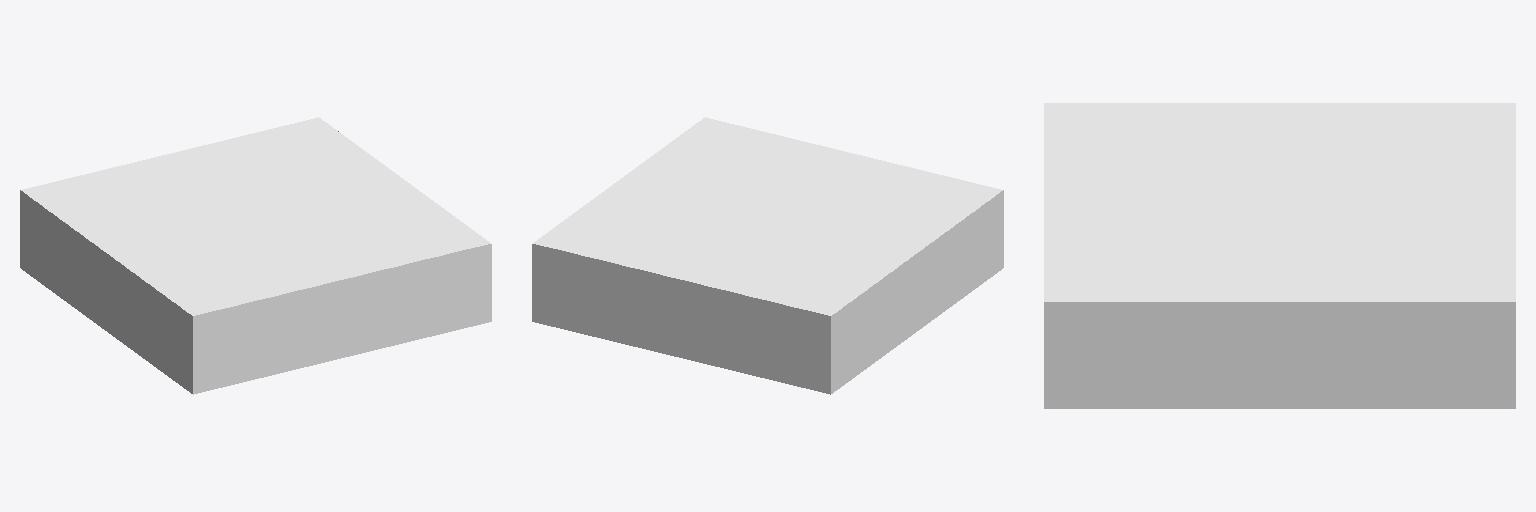
URDF robot description (room12x12e):
<?xml version="1.0"?>
<robot name="room12x12e">
  <link name="floor_link">
    <visual>
      <geometry>
        <box size="12 12 0.01"/>
      </geometry>
      <origin xyz="0 0 -0.005" rpy="0 0 0"/>
      <material name="white"/>
    </visual>
    <collision>
      <geometry>
        <box size="12 12 0.01"/>
      </geometry>
      <origin xyz="0 0 -0.005" rpy="0 0 0"/>
    </collision>
    <inertial>
      <mass value="3888"/>
      <inertia ixx="46656.0324" ixy="0" ixz="0" iyy="46656.0324" iyz="0" izz="93312"/>
      <origin xyz="0 0 -0.005" rpy="0 0 0"/>
    </inertial>
    <contact>
      <lateral_friction value="1"/>
    </contact>
  </link>
  <material name="blue">
    <color rgba="0 0 0.8 1"/>
  </material>
  <material name="black">
    <color rgba="0 0 0 1"/>
  </material>
  <material name="white">
    <color rgba="1 1 1 1"/>
  </material>
  <link name="north_link">
    <visual>
      <geometry>
        <box size="12 0.01 3"/>
      </geometry>
      <origin xyz="0 0 1.5" rpy="0 0 0"/>
      <material name="white"/>
    </visual>
    <collision>
      <geometry>
        <box size="12 0.01 3"/>
      </geometry>
      <origin xyz="0 0 1.5" rpy="0 0 0"/>
    </collision>
    <inertial>
      <mass value="972"/>
      <inertia ixx="729.0081" ixy="0" ixz="0" iyy="12393" iyz="0" izz="11664.0081"/>
      <origin xyz="0 0 1.5" rpy="0 0 0"/>
    </inertial>
  </link>
  <joint name="north_joint" type="fixed">
    <parent link="floor_link"/>
    <child link="north_link"/>
    <origin xyz="0 6 0" rpy="0 0 0"/>
  </joint>
  <link name="east_link">
    <visual>
      <geometry>
        <box size="12 0.01 3"/>
      </geometry>
      <origin xyz="0 0 1.5" rpy="0 0 1.570796327"/>
      <material name="white"/>
    </visual>
    <collision>
      <geometry>
        <box size="12 0.01 3"/>
      </geometry>
      <origin xyz="0 0 1.5" rpy="0 0 1.570796327"/>
    </collision>
    <inertial>
      <mass value="972"/>
      <inertia ixx="729.0081" ixy="0" ixz="0" iyy="12393" iyz="0" izz="11664.0081"/>
      <origin xyz="0 0 1.5" rpy="0 0 1.570796327"/>
    </inertial>
  </link>
  <joint name="east_joint" type="fixed">
    <parent link="floor_link"/>
    <child link="east_link"/>
    <origin xyz="6 0 0" rpy="0 0 0"/>
  </joint>
  <link name="south_link">
    <visual>
      <geometry>
        <box size="12 0.01 3"/>
      </geometry>
      <origin xyz="0 0 1.5" rpy="0 0 0"/>
      <material name="white"/>
    </visual>
    <collision>
      <geometry>
        <box size="12 0.01 3"/>
      </geometry>
      <origin xyz="0 0 1.5" rpy="0 0 0"/>
    </collision>
    <inertial>
      <mass value="972"/>
      <inertia ixx="729.0081" ixy="0" ixz="0" iyy="12393" iyz="0" izz="11664.0081"/>
      <origin xyz="0 0 1.5" rpy="0 0 0"/>
    </inertial>
  </link>
  <joint name="south_joint" type="fixed">
    <parent link="floor_link"/>
    <child link="south_link"/>
    <origin xyz="0 -6 0" rpy="0 0 0"/>
  </joint>
  <link name="west_link">
    <visual>
      <geometry>
        <box size="12 0.01 3"/>
      </geometry>
      <origin xyz="0 0 1.5" rpy="0 0 1.570796327"/>
      <material name="white"/>
    </visual>
    <collision>
      <geometry>
        <box size="12 0.01 3"/>
      </geometry>
      <origin xyz="0 0 1.5" rpy="0 0 1.570796327"/>
    </collision>
    <inertial>
      <mass value="972"/>
      <inertia ixx="729.0081" ixy="0" ixz="0" iyy="12393" iyz="0" izz="11664.0081"/>
      <origin xyz="0 0 1.5" rpy="0 0 1.570796327"/>
    </inertial>
  </link>
  <joint name="west_joint" type="fixed">
    <parent link="floor_link"/>
    <child link="west_link"/>
    <origin xyz="-6 0 0" rpy="0 0 0"/>
  </joint>
  <link name="ceiling_link">
    <visual>
      <geometry>
        <box size="12 12 0.01"/>
      </geometry>
      <origin xyz="0 0 3" rpy="0 0 0"/>
      <material name="white"/>
    </visual>
    <collision>
      <geometry>
        <box size="12 12 0.01"/>
      </geometry>
      <origin xyz="0 0 3" rpy="0 0 0"/>
    </collision>
    <inertial>
      <mass value="3888"/>
      <inertia ixx="46656.0324" ixy="0" ixz="0" iyy="46656.0324" iyz="0" izz="93312"/>
      <origin xyz="0 0 3" rpy="0 0 0"/>
    </inertial>
  </link>
  <joint name="ceiling_joint" type="fixed">
    <parent link="floor_link"/>
    <child link="ceiling_link"/>
  </joint>
</robot>

--- Facts derived from the render (not from the file) ---
Views: 3 orthographic renders of the robot side by side, from view 1: azimuth 30°, elevation 25°; view 2: azimuth 150°, elevation 25°; view 3: azimuth 270°, elevation 25°.
Robot: room12x12e — 6 links, 5 joints (5 fixed); root link floor_link; default pose: all joints at 0.
Visible links, largest first — view 1: ceiling_link, south_link, west_link; view 2: ceiling_link, north_link, west_link; view 3: ceiling_link, east_link.
Link boxes in pixels (x1,y1,x2,y2): ceiling_link: [21, 117, 490, 315]; south_link: [193, 244, 490, 393]; west_link: [20, 190, 192, 393]; ceiling_link: [533, 117, 1002, 315]; north_link: [533, 244, 830, 393]; west_link: [831, 190, 1003, 393]; ceiling_link: [1045, 103, 1514, 301]; east_link: [1045, 302, 1514, 408].
Bounding box of the posed robot: 12.01 × 12.01 × 3.02 m (x, y, z).
Geometry: primitives only (box / cylinder / sphere), no mesh files.